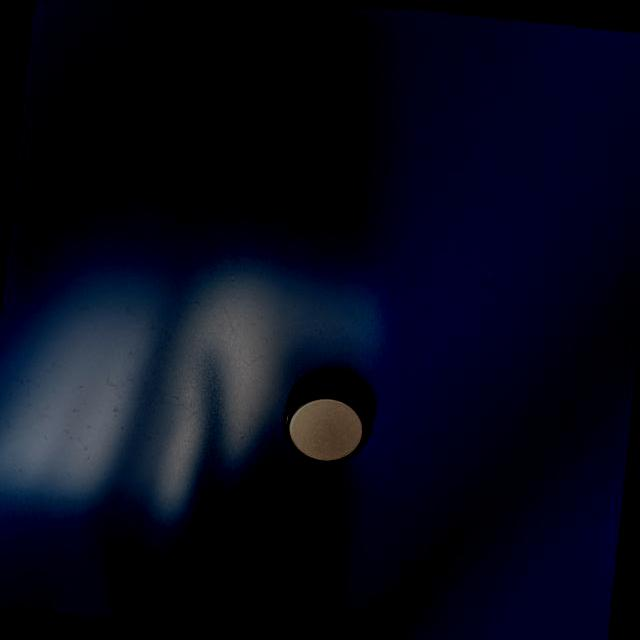COIN: (274, 368, 377, 468)
